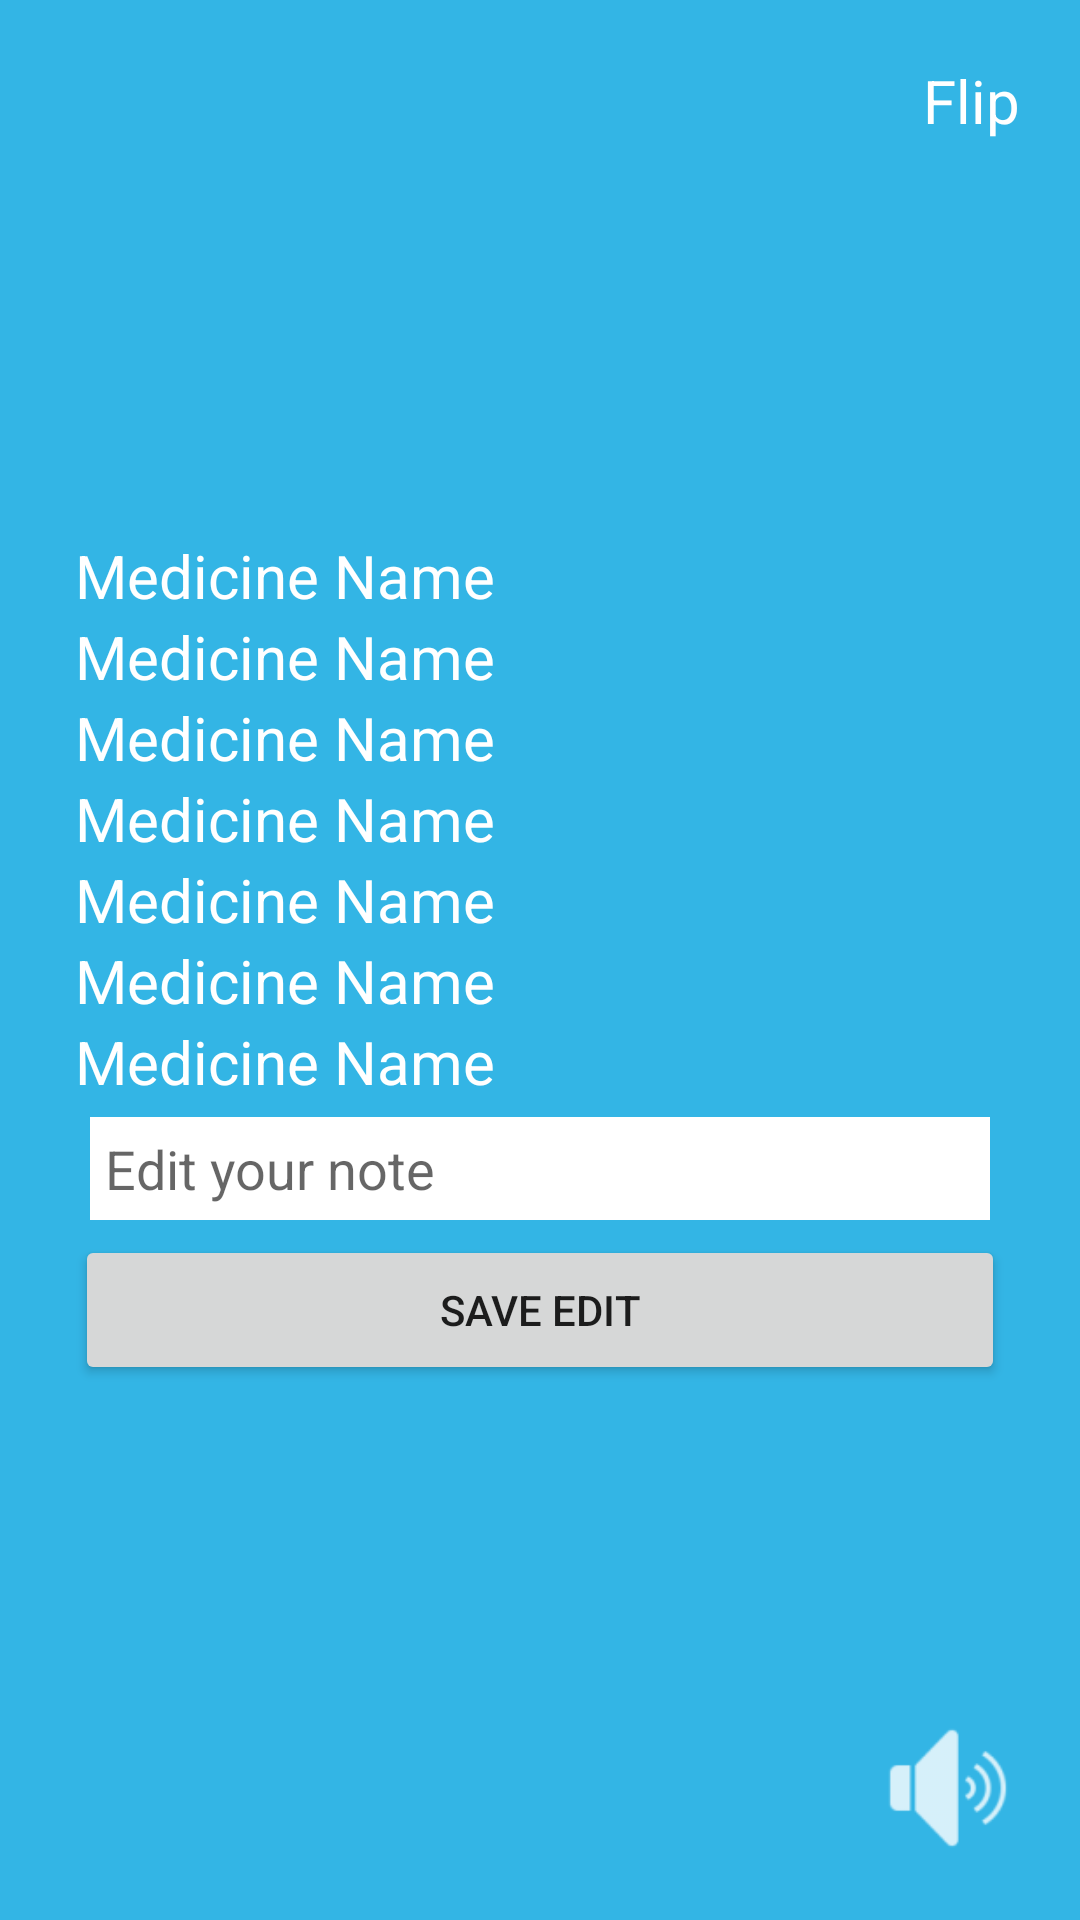

Point at icon controls on the screen. Image size 1080 x 1920, points as (x=x, y=y).
play back: (x=948, y=1788)
